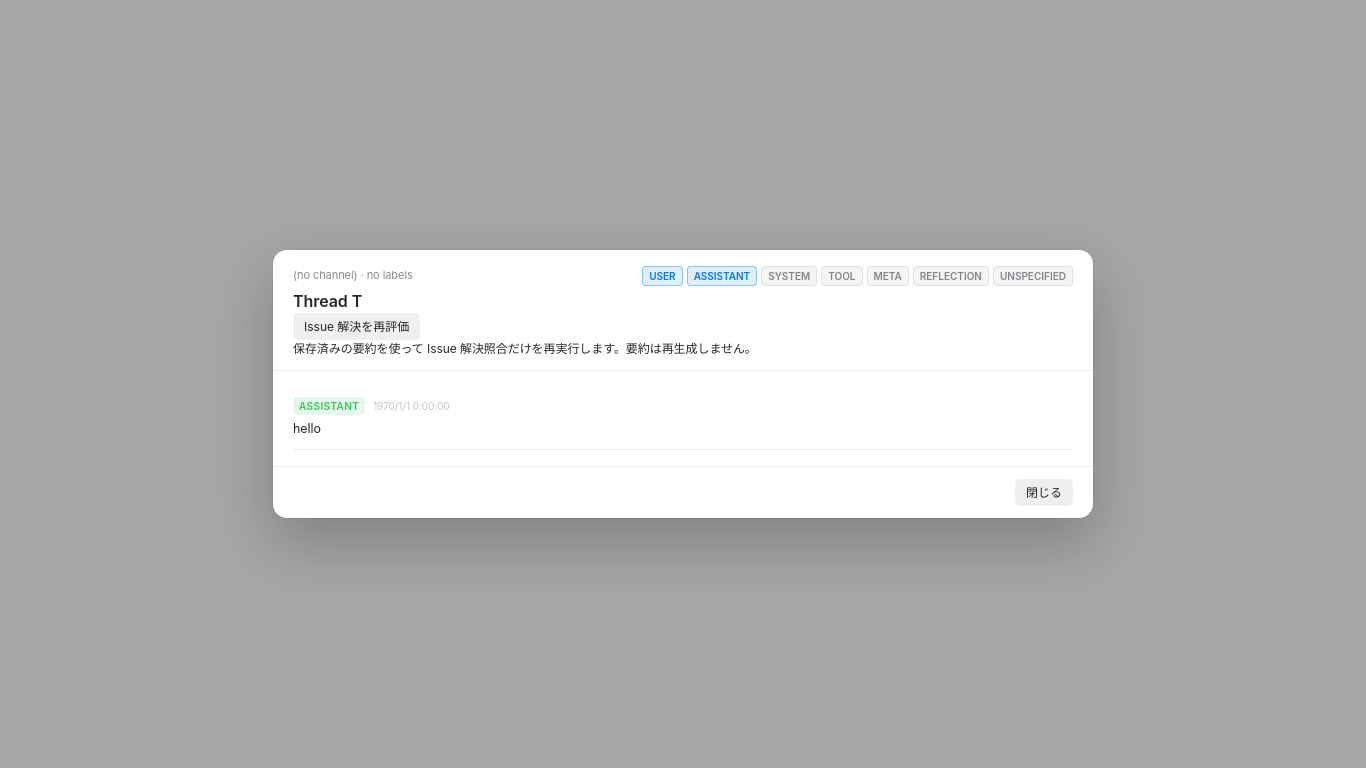
Test: ThreadDetail › shows the accepted job id, but does not claim that re-evaluation completed
Step 1. Click the button "Issue 解決を再評価" → point(357, 327), box 293,313 -> 420,340
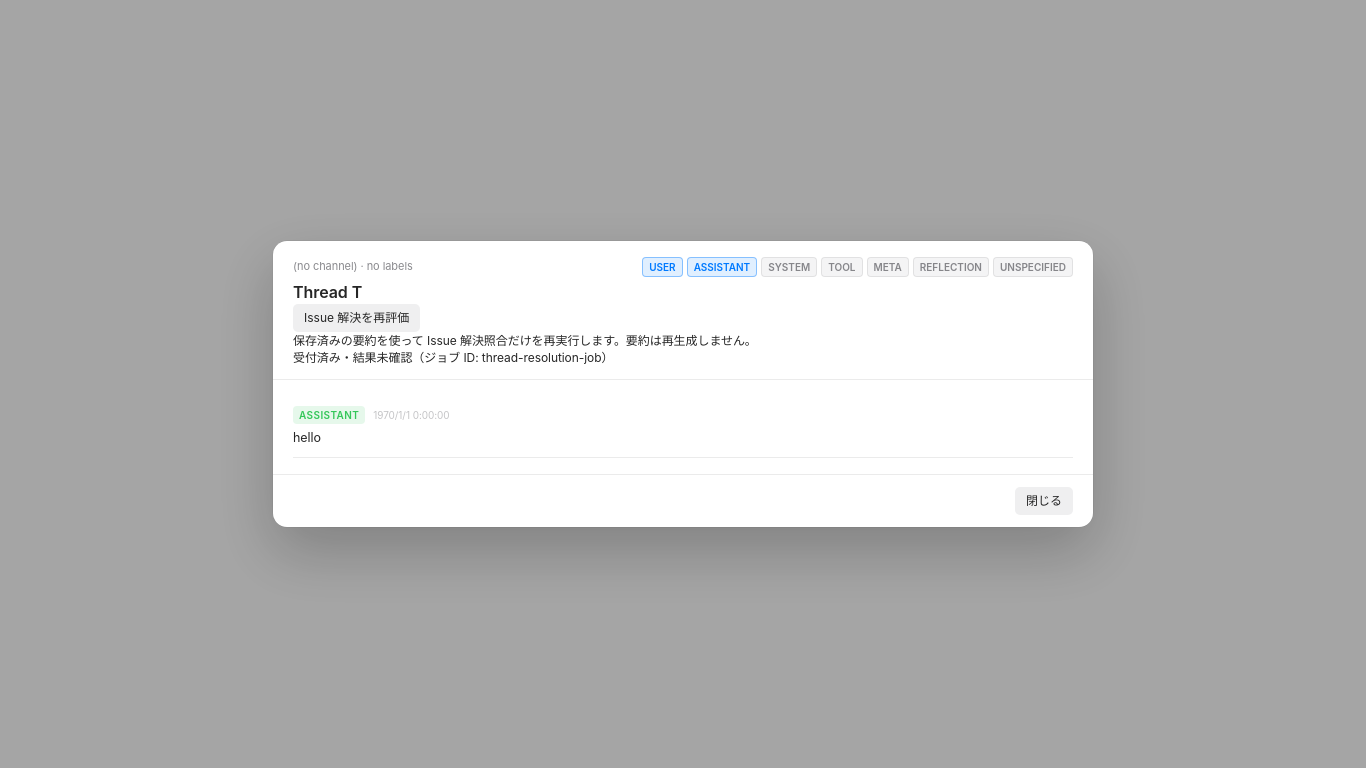
Result: the text "受付済み・結果未確認（ジョブ ID: thread-resolution-job）" is shown at 293,350 -> 613,365
